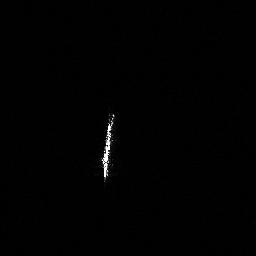ship: (97, 108, 118, 183)
